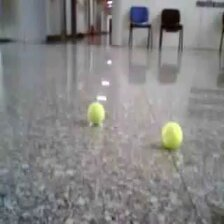tennis: (162, 121, 182, 147), (87, 102, 105, 121)
